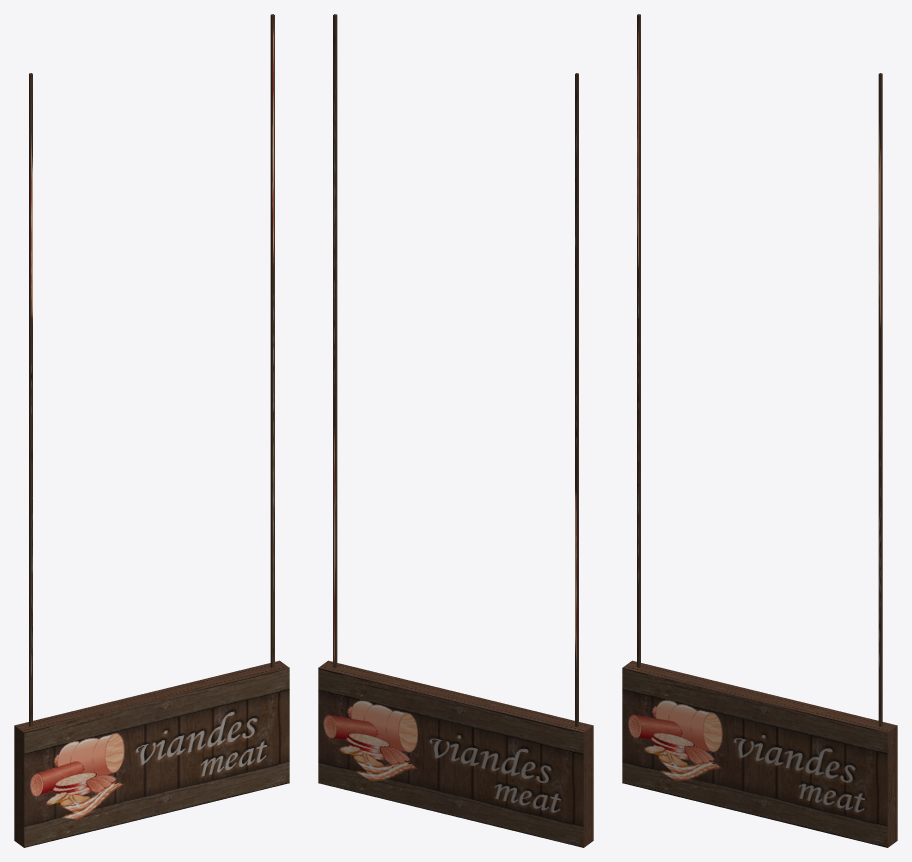
File: SM_Signs_06.FBX
The picture shows the model from 3 angles, left to right: view 1: azimuth 30°, elevation 25°; view 2: azimuth 150°, elevation 25°; view 3: azimuth 330°, elevation 25°; orthographic projection.
Visible parts, largest first — view 1: SM_Signs_06; view 2: SM_Signs_06; view 3: SM_Signs_06.
Part boxes in pixels (left/top/right/bottom): SM_Signs_06: left=14, top=14, right=289, bottom=847; SM_Signs_06: left=318, top=14, right=593, bottom=847; SM_Signs_06: left=622, top=14, right=897, bottom=847.
Size of the model in its own units: 83.45 by 230 by 5.42.
